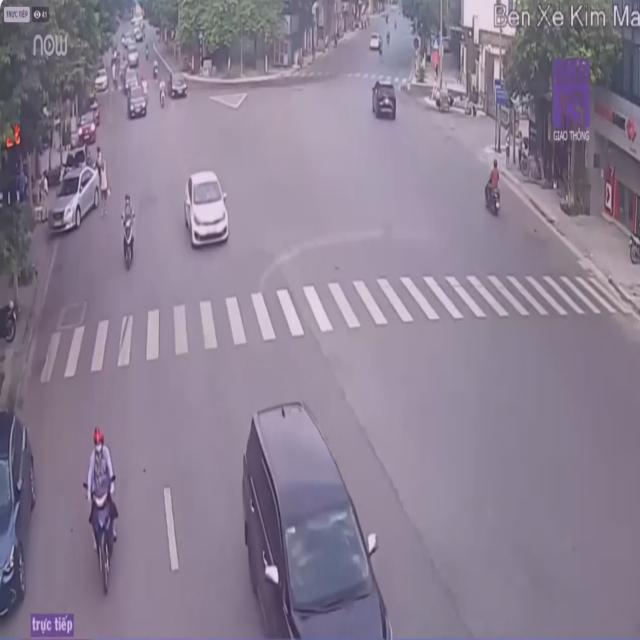car: (240, 403, 394, 640), (1, 404, 34, 620), (183, 170, 231, 252), (50, 168, 99, 230), (371, 76, 399, 122)
motorbike: (82, 431, 119, 602), (119, 194, 138, 274), (486, 159, 505, 220)
